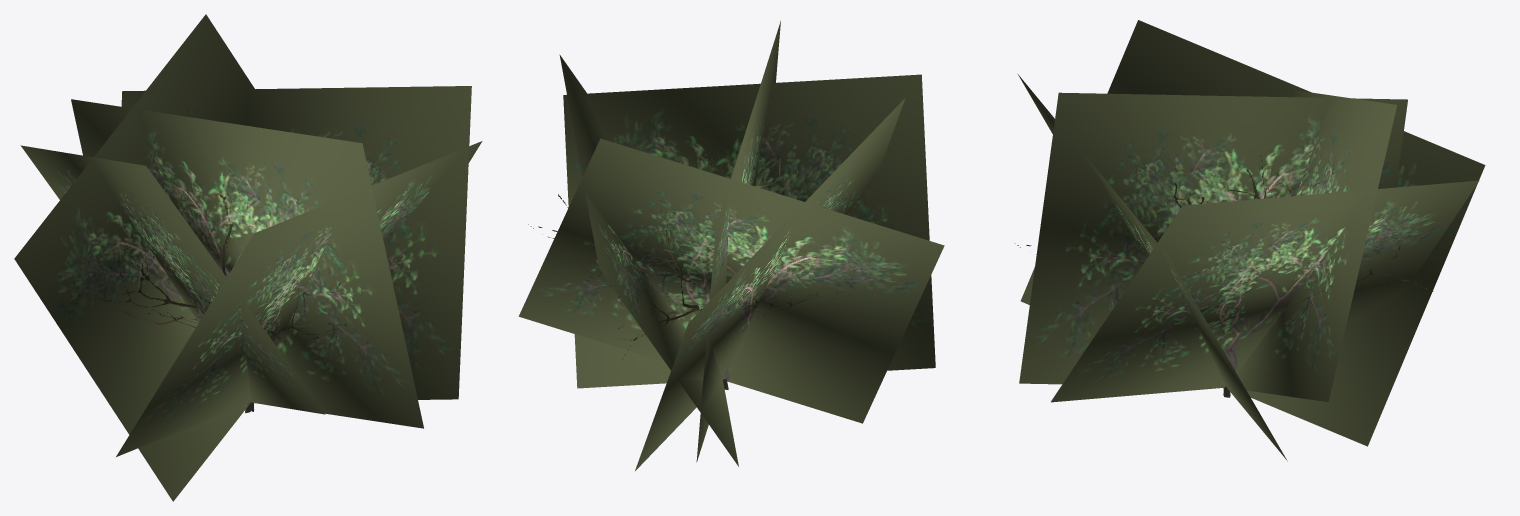
The model's file is shrb_leafy_sparse_green_l0.fbx.
3 views of the same model, side by side, from view 1: azimuth 30°, elevation 25°; view 2: azimuth 150°, elevation 25°; view 3: azimuth 270°, elevation 25° (orthographic). The views are drawn at different scales.
Visible parts, largest first — view 1: mesh_node; view 2: mesh_node; view 3: mesh_node.
Part boxes in pixels (x1,y1,x2,y2): mesh_node: (14, 14, 482, 501); mesh_node: (518, 21, 944, 470); mesh_node: (1014, 20, 1485, 461).
Size of the model in its own units: 1.38 by 1.04 by 1.42.
